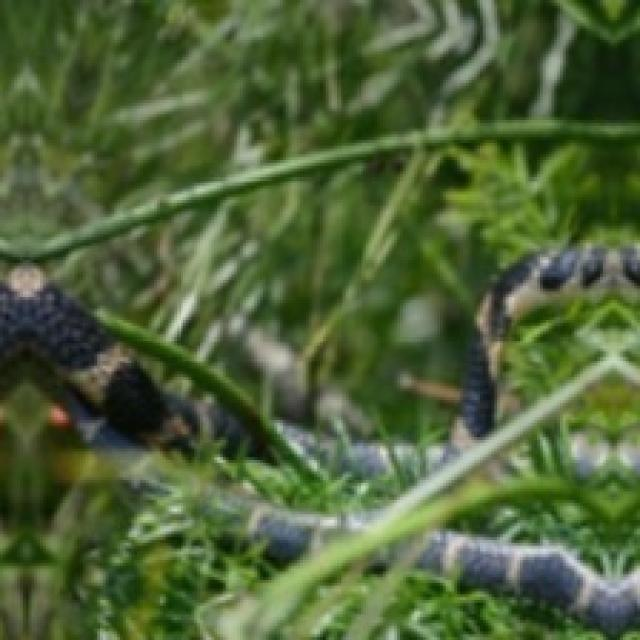king cobra: (0, 246, 637, 637), (317, 426, 503, 560)
